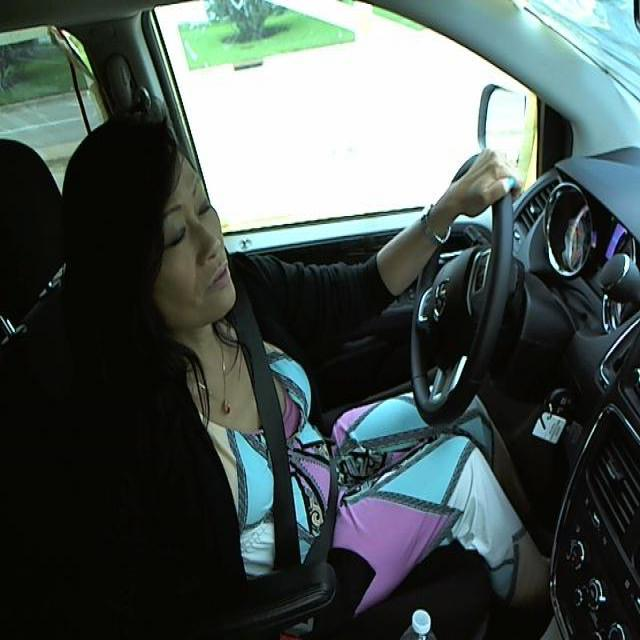seatbelt: (232, 324, 350, 585)
